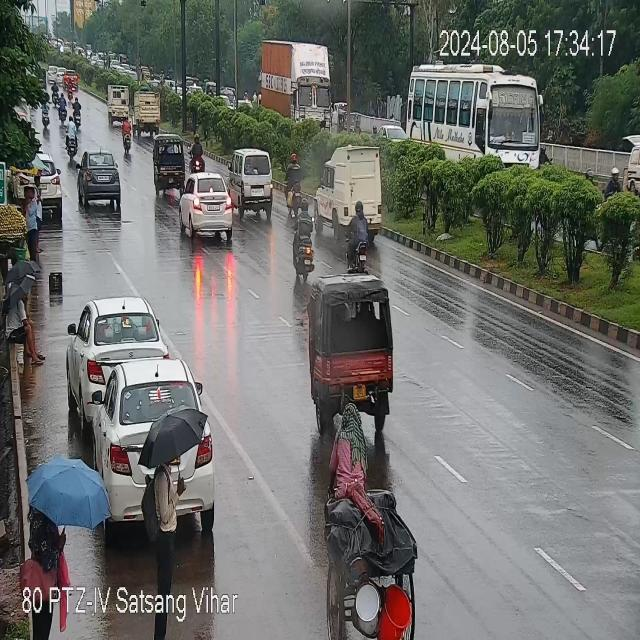2-wheelers: (344, 205, 378, 272), (292, 192, 313, 279), (285, 146, 302, 213), (66, 111, 77, 162), (608, 167, 622, 197), (121, 113, 131, 154), (72, 94, 84, 126), (41, 100, 50, 128), (59, 91, 66, 125), (52, 80, 59, 104), (68, 80, 72, 100)
auto: (329, 404, 416, 640), (308, 275, 402, 409), (234, 146, 276, 208), (151, 134, 186, 190)
bus: (404, 60, 546, 174)
car: (93, 362, 201, 462), (69, 297, 166, 404), (179, 174, 238, 241), (75, 153, 127, 211), (15, 158, 64, 208), (62, 70, 80, 88), (55, 68, 65, 83), (48, 66, 56, 79)
pedestrian: (32, 495, 69, 585), (152, 449, 178, 576), (4, 294, 41, 359), (24, 183, 38, 262), (34, 173, 42, 220)
truck: (313, 144, 392, 240), (259, 33, 330, 128), (128, 84, 164, 134), (106, 87, 126, 124)
